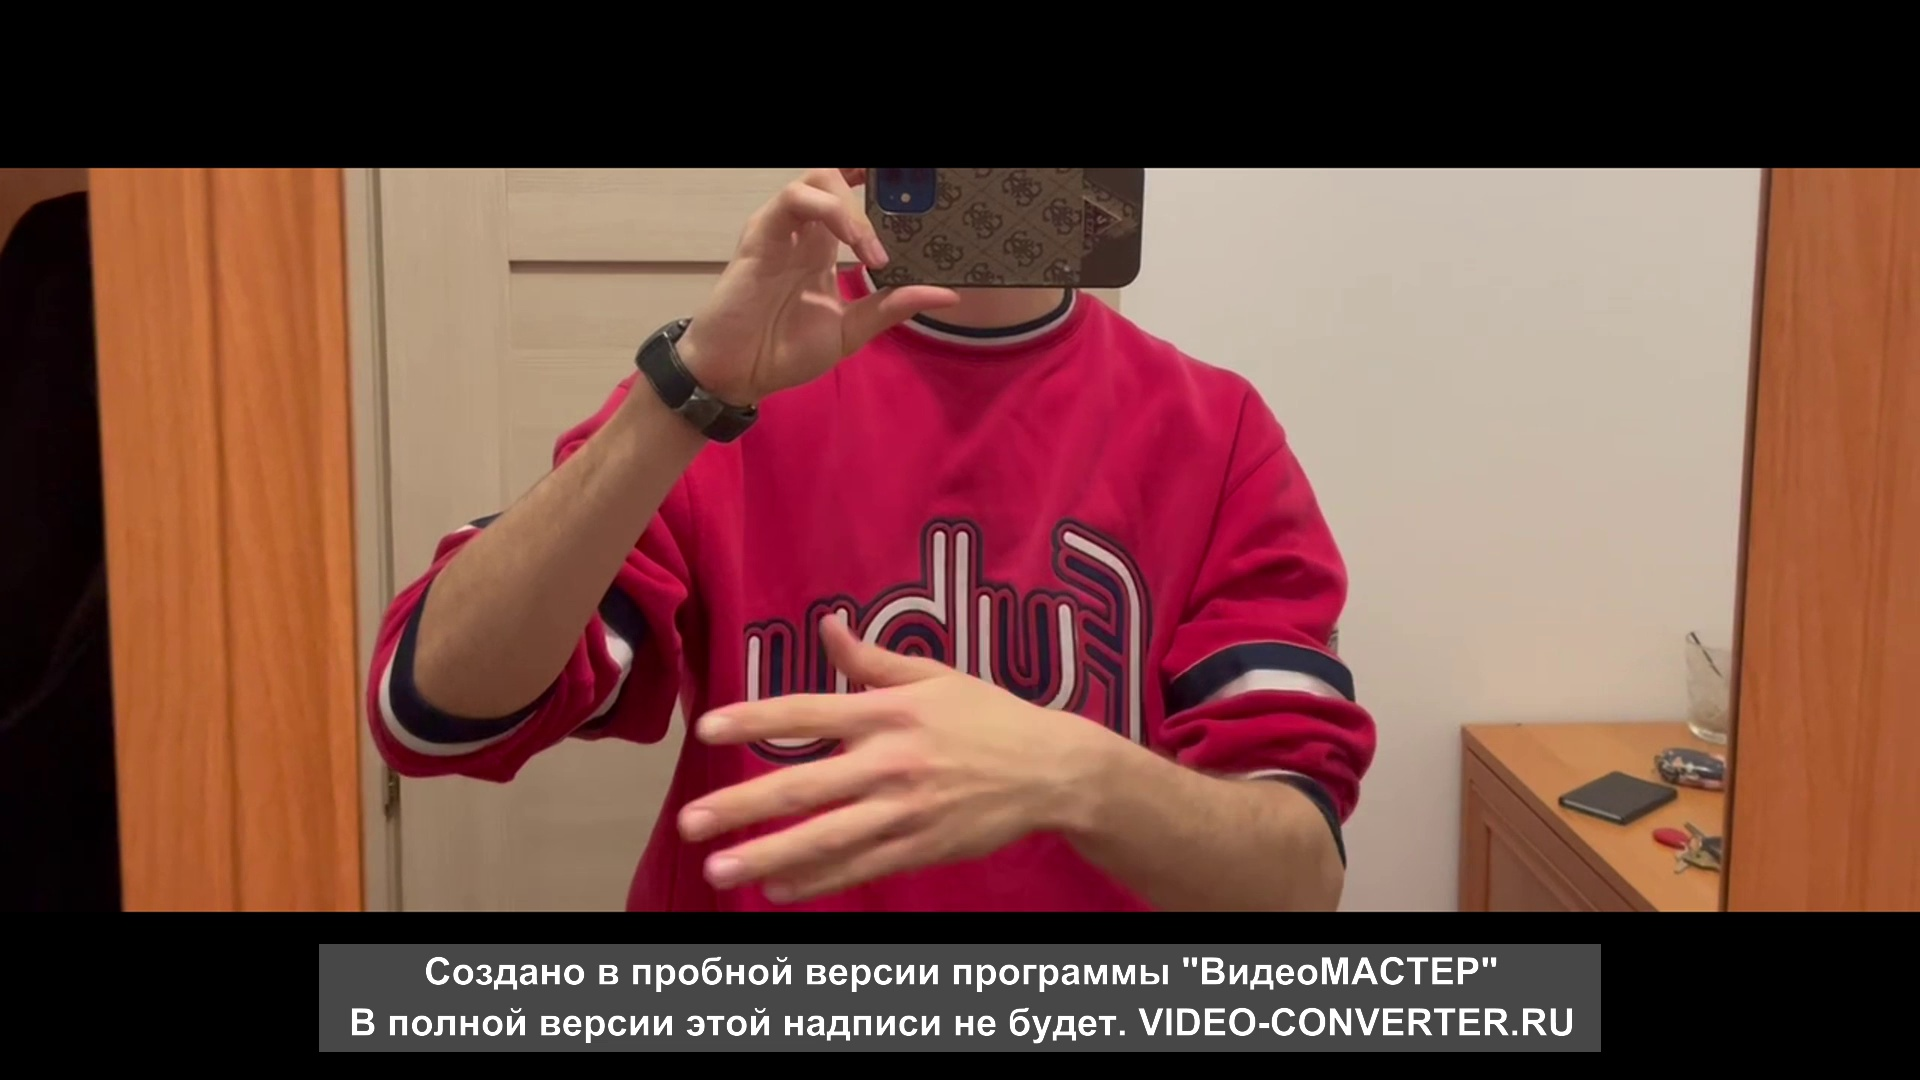Кисть: (678, 607, 1023, 901)
